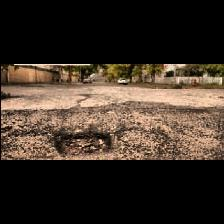pothole: (53, 132, 111, 156)
